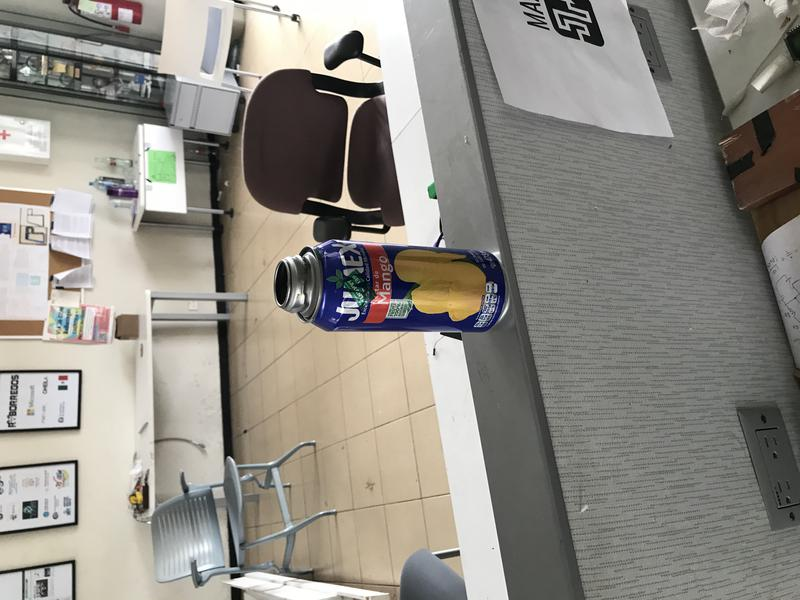jumex_botella: (273, 238, 512, 335)
